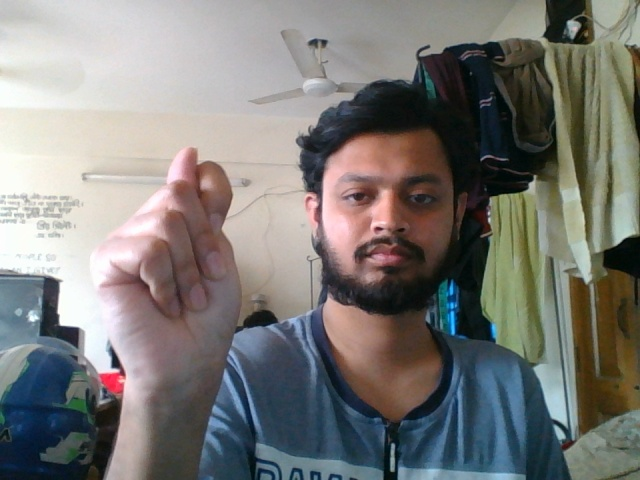ta: (89, 137, 250, 439)
